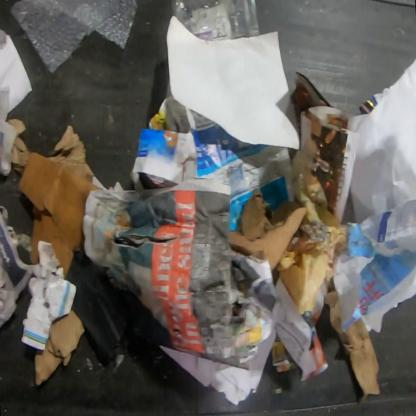cardboard: (226, 188, 308, 271), (20, 238, 77, 350), (33, 309, 86, 389), (46, 124, 96, 184), (6, 117, 30, 175)
rigid_plastic: (170, 0, 260, 42)
soft_plastic: (276, 133, 349, 317), (8, 0, 140, 76)
